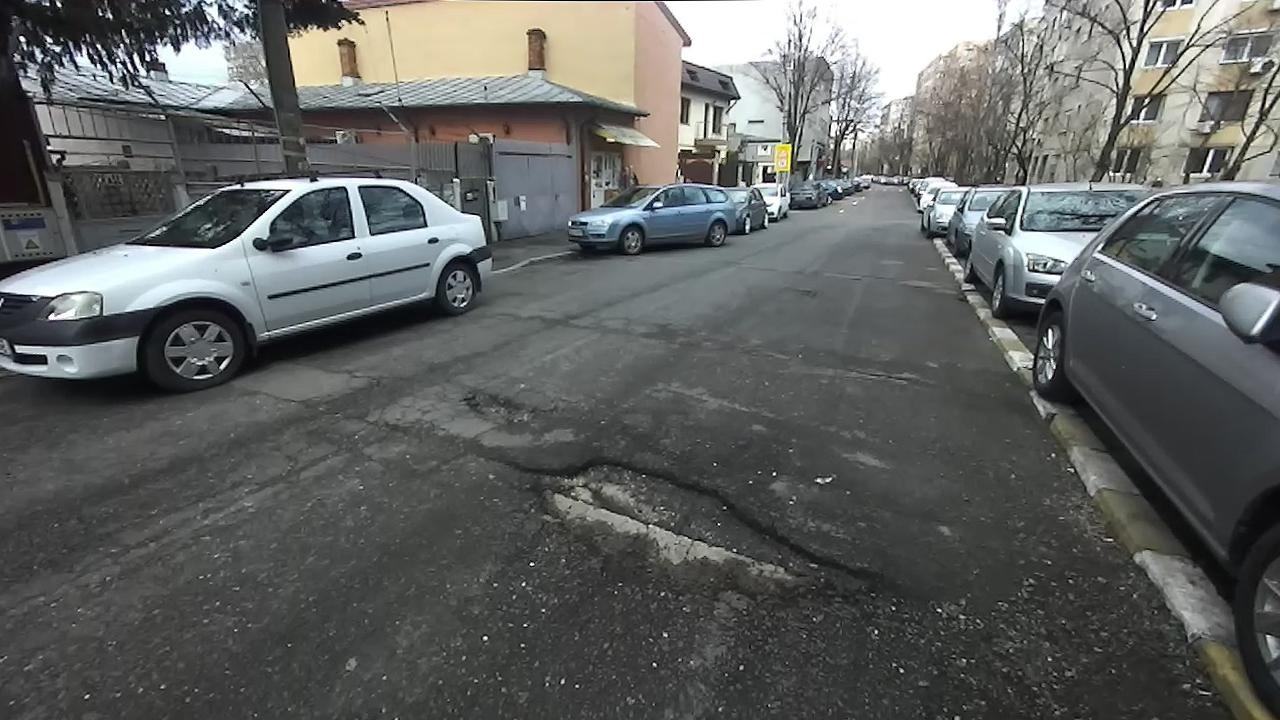pothole: (477, 448, 906, 614), (449, 378, 554, 429), (839, 362, 934, 390)
